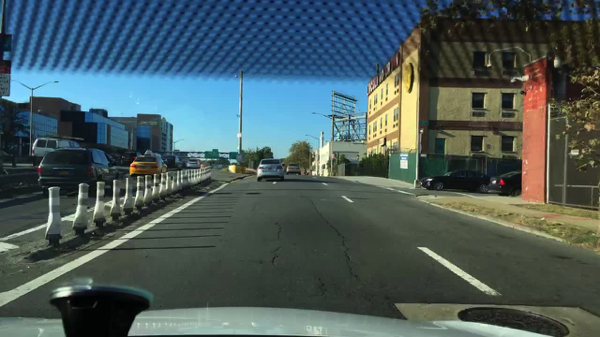car: (37, 147, 120, 199), (31, 133, 85, 163), (419, 172, 491, 191), (130, 147, 168, 181), (485, 170, 521, 198), (255, 158, 285, 182), (162, 154, 182, 169), (119, 150, 138, 164), (286, 163, 302, 176), (186, 158, 201, 169), (198, 162, 211, 169)
traffic sign: (0, 59, 11, 96), (0, 32, 12, 51), (204, 148, 219, 159), (173, 149, 187, 158), (228, 150, 239, 160), (418, 118, 429, 125), (418, 128, 424, 134)
